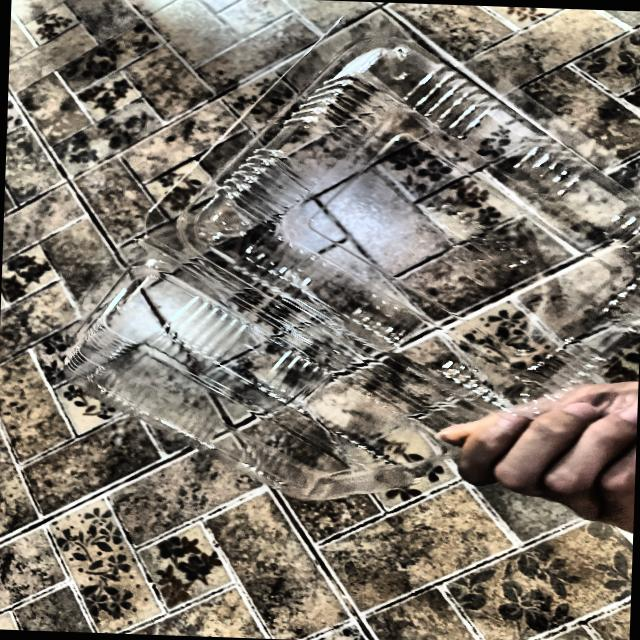plastic container: (61, 32, 634, 520)
